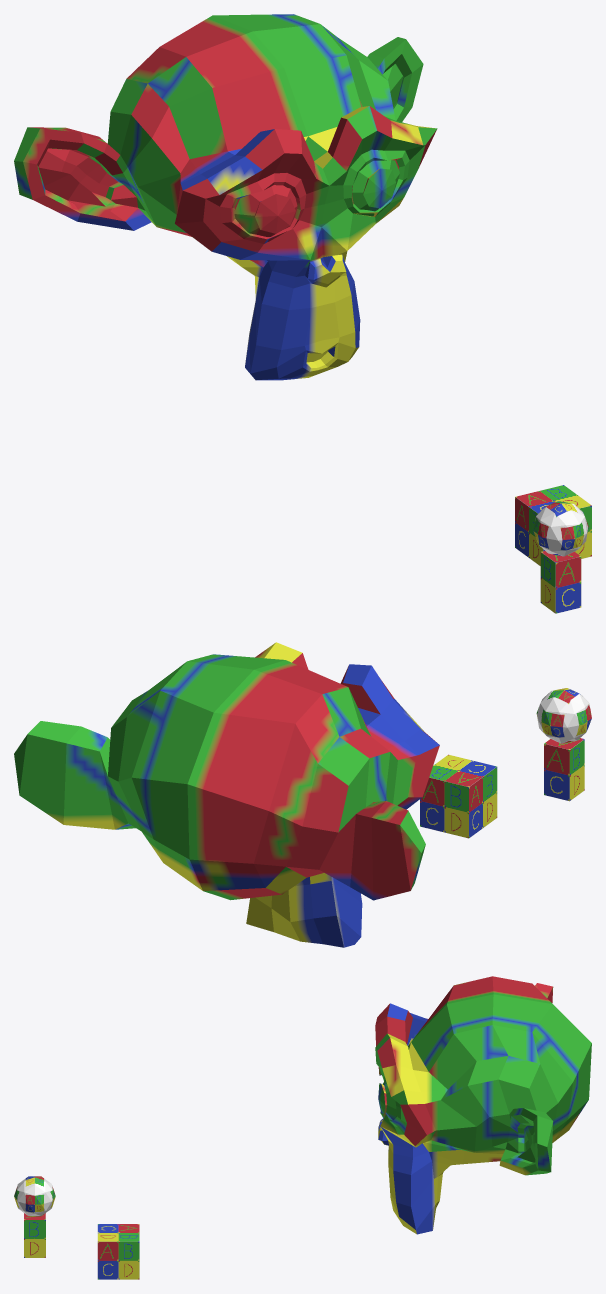
3 views of the same model, one above another, from view 1: azimuth 30°, elevation 25°; view 2: azimuth 150°, elevation 25°; view 3: azimuth 270°, elevation 25° (orthographic). The views are drawn at different scales.
Visible parts, largest first — view 1: Suzanne, Cube.001, Cube, Icosphere; view 2: Suzanne, Cube.001, Icosphere, Cube; view 3: Suzanne, Cube.001, Icosphere, Cube.
Boxes of the visible parts, x1,y1,x2,y2 form: Suzanne: (14,14,437,380); Cube.001: (515,485,591,565); Cube: (540,551,581,613); Icosphere: (533,501,588,556); Suzanne: (14,642,439,947); Cube.001: (420,754,497,838); Icosphere: (536,688,591,743); Cube: (544,738,584,801); Suzanne: (375,976,591,1234); Cube.001: (97,1224,139,1279); Icosphere: (14,1176,55,1216); Cube: (24,1213,45,1257).
Size of what is drawn, in the model's own units: 8.31 by 6.82 by 13.81.
Materials: 1 (1 with a texture image).
